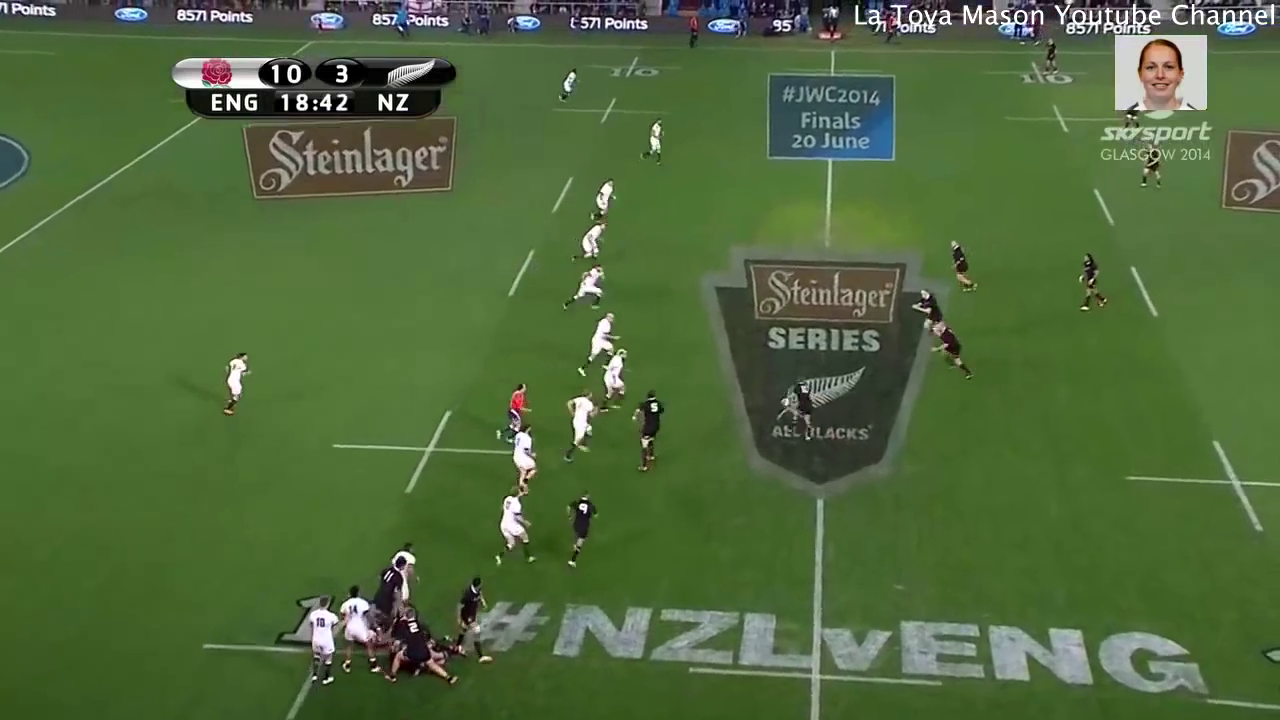10_metre: (193, 577, 466, 720), (322, 402, 542, 507), (1115, 433, 1280, 537), (992, 99, 1132, 142), (546, 92, 663, 131), (982, 54, 1100, 86), (569, 53, 685, 77)
ball: (780, 393, 793, 411)
player: (379, 604, 458, 685), (481, 479, 542, 568), (448, 568, 496, 671), (336, 584, 382, 683), (300, 592, 342, 696), (624, 385, 670, 476), (926, 317, 979, 393), (561, 488, 605, 573), (592, 342, 636, 416), (558, 388, 601, 462), (216, 345, 257, 422), (576, 305, 618, 379), (552, 260, 611, 312), (502, 419, 540, 495), (1071, 248, 1113, 315), (492, 372, 530, 445), (942, 232, 982, 299), (387, 531, 425, 596), (362, 554, 410, 605), (909, 272, 945, 339), (786, 372, 820, 436), (569, 217, 609, 265), (1138, 132, 1169, 192), (640, 108, 670, 167), (592, 176, 619, 220), (556, 60, 581, 105), (1042, 34, 1062, 76)
